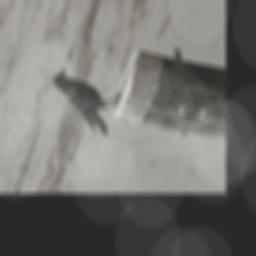Crow: (34, 65, 130, 138)
